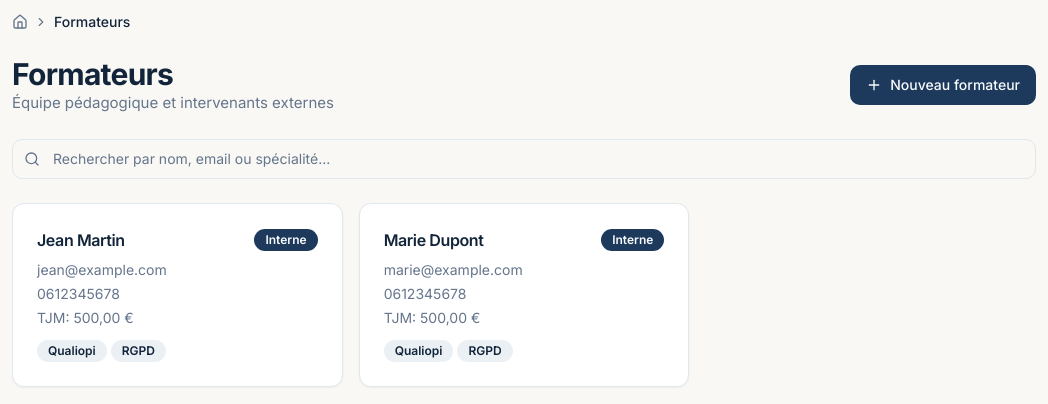
Test: TrainersListPage › filters trainers by name
The width and height of the screenshot is (1048, 404).
Step 1. Type "dupont" into the field with placeholder "Rechercher par nom, email ou spécialité..." → (524, 158), box [12,138,1036,178]
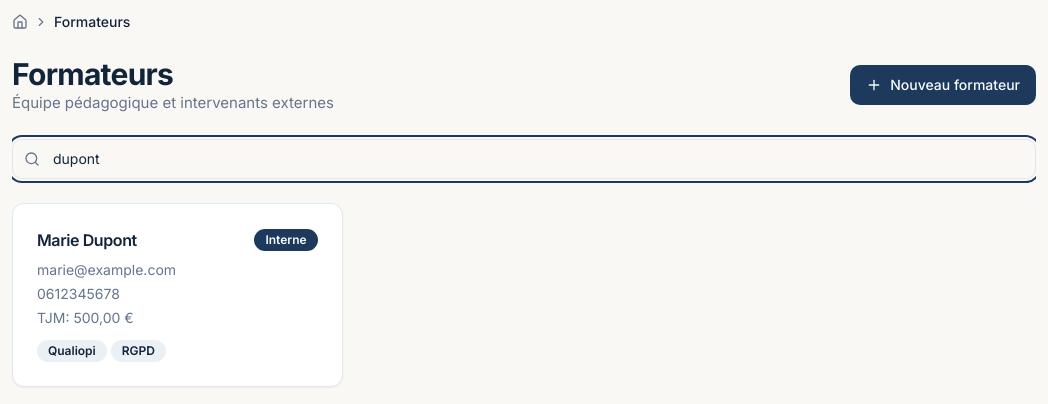
expect the heading "Marie Dupont" is shown: met, box [37,228,137,252]
expect the link "Jean Martin" is gone: met
